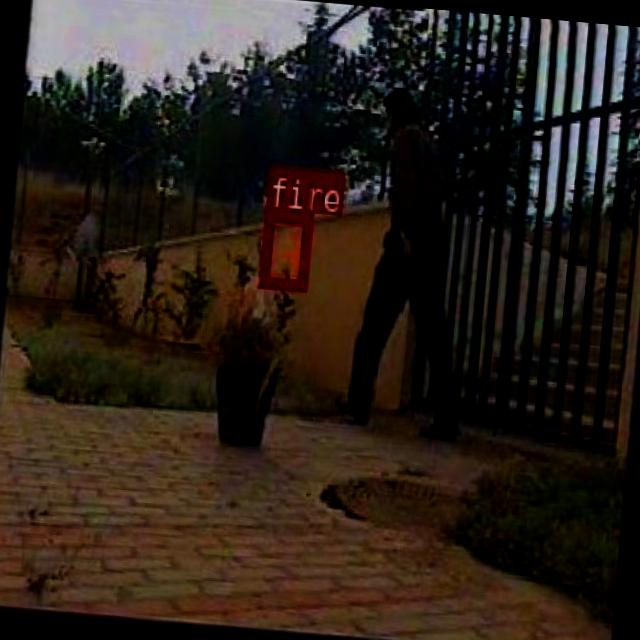fire: (258, 207, 311, 288)
